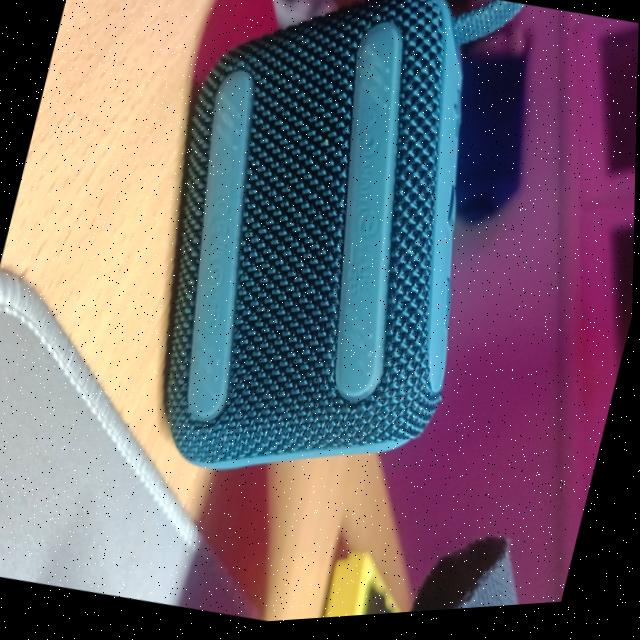column JBL: (93, 0, 538, 545)
